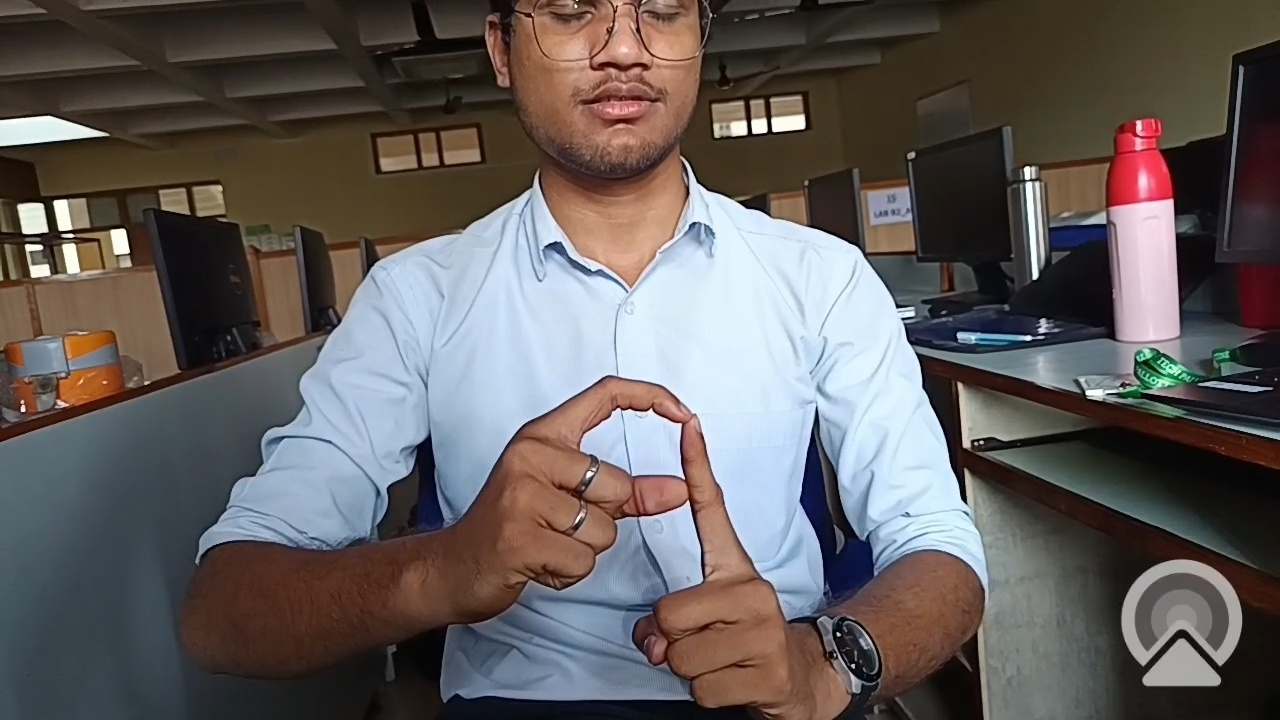P: (386, 354, 824, 711)
